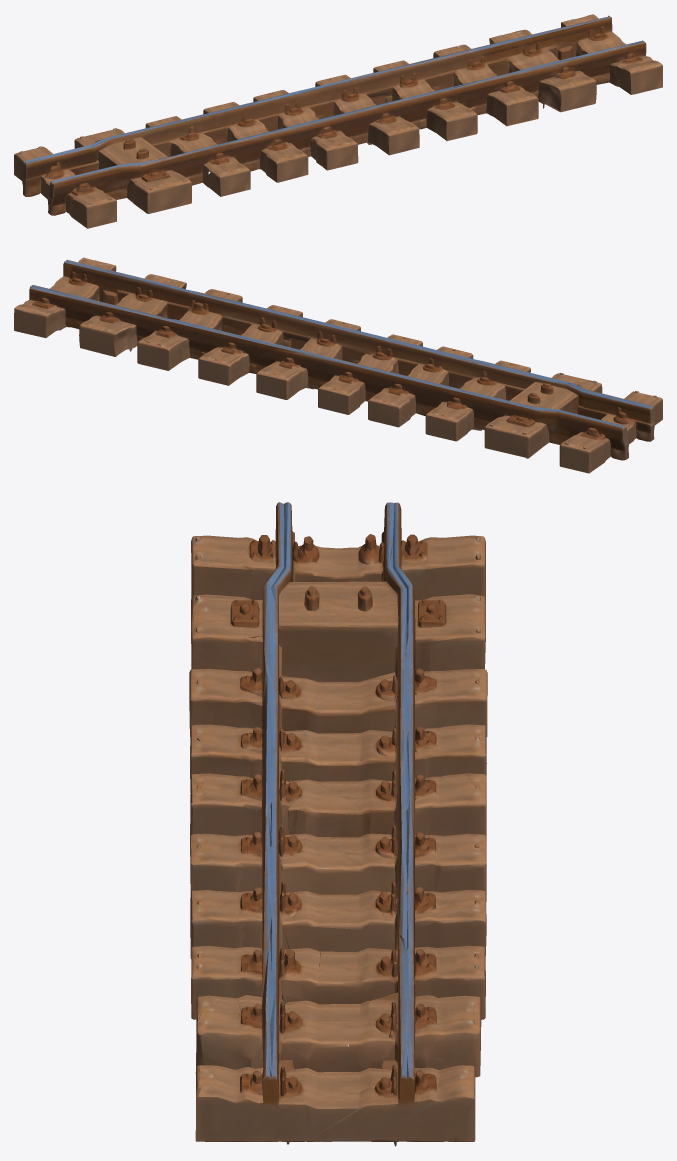
Rendered from rail_track_section.glb.
3 views of the same model, one above another, from view 1: azimuth 30°, elevation 25°; view 2: azimuth 150°, elevation 25°; view 3: azimuth 270°, elevation 25° (orthographic). The views are drawn at different scales.
Visible parts, largest first — view 1: main; view 2: main; view 3: main.
Part boxes in pixels (bbox=[...]): main: bbox=[14, 14, 662, 228]; main: bbox=[14, 257, 662, 473]; main: bbox=[189, 502, 487, 1146].
Size of the model in its own units: 3.66 by 0.2788 by 0.7998.
1 material, 1 textured.
